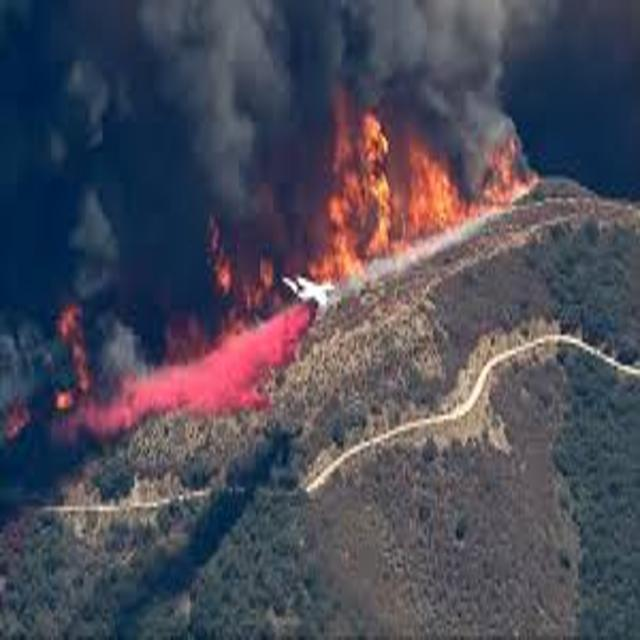Fire: (321, 98, 464, 282), (0, 301, 96, 448), (210, 188, 312, 324), (465, 130, 553, 216)
Smoke: (0, 0, 201, 296), (320, 0, 548, 94), (200, 0, 316, 181), (556, 0, 639, 196)
